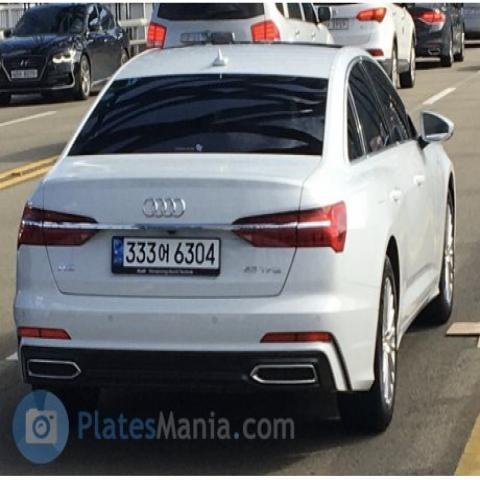LP: (101, 225, 230, 286)
